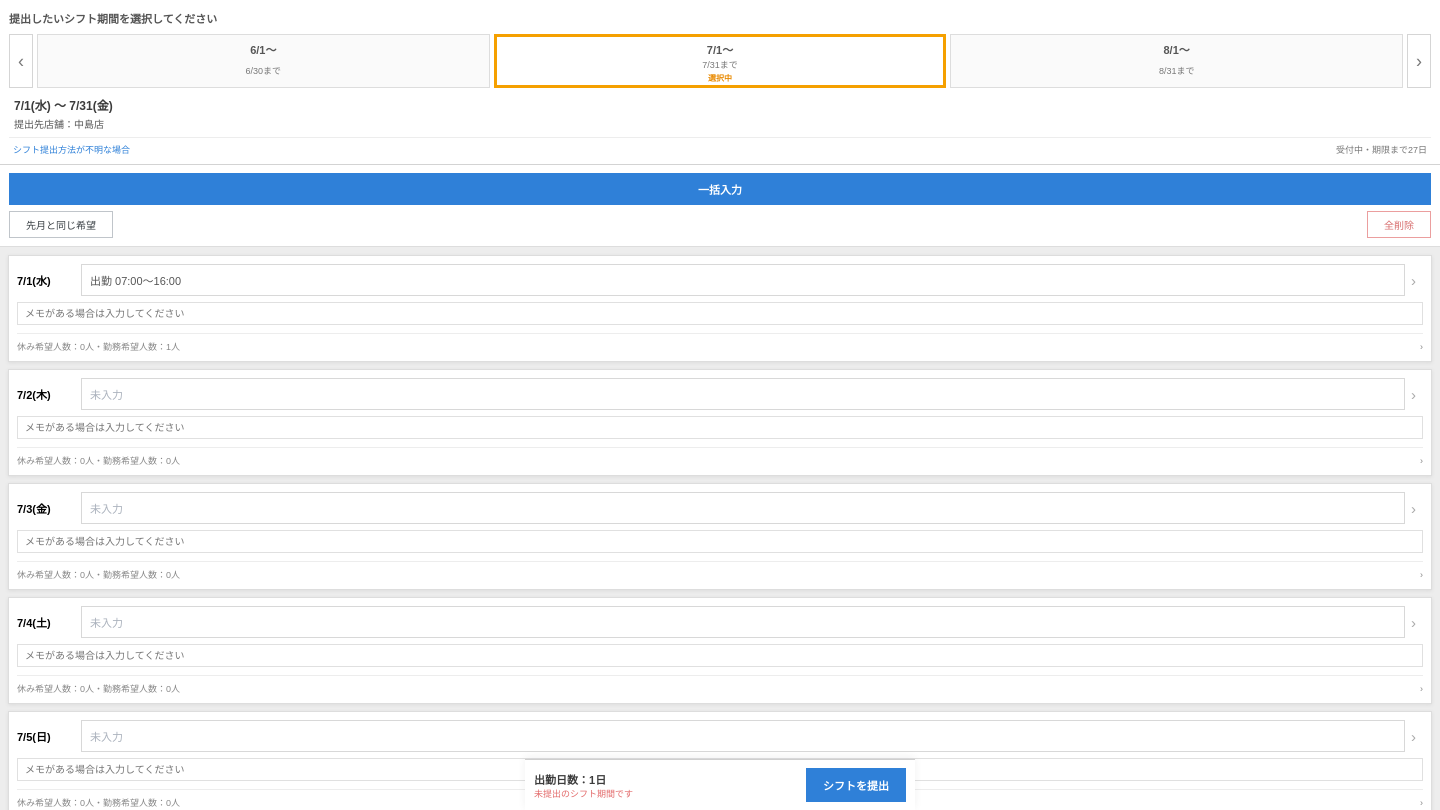
RequestEditor › keeps edits local and saves the whole period when submitted
The image size is (1440, 810).
Click the button "シフトを提出". click: (856, 785)
box: [806,768,906,802]
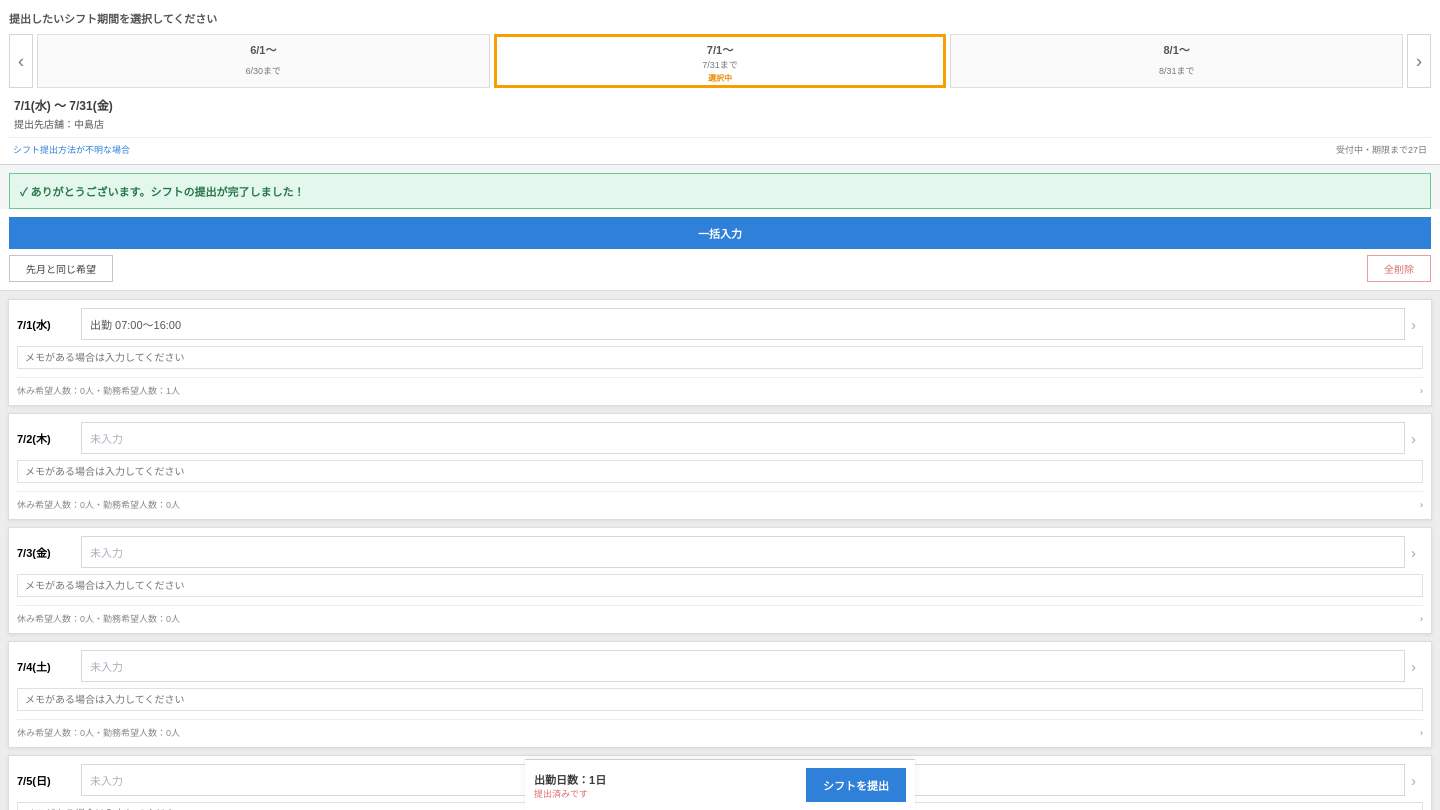
expect the message shows "シフトの提出が完了しました": met, box [28,186,304,198]
